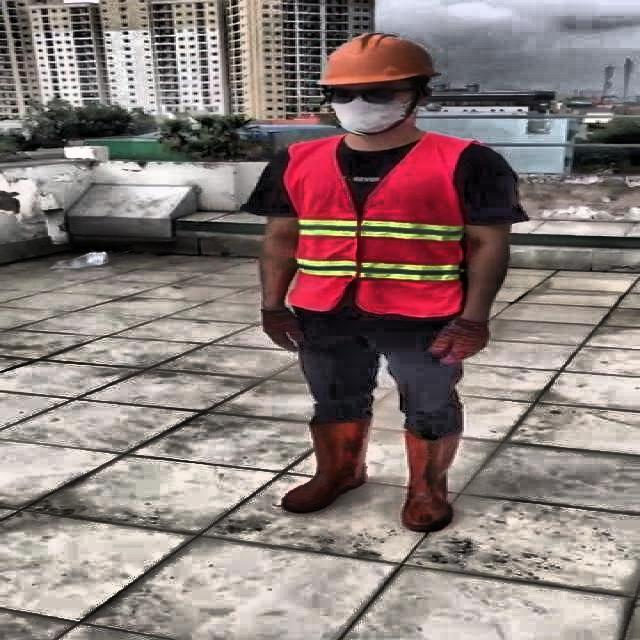safety_helmet: (311, 33, 443, 86)
safety_jacket: (286, 136, 466, 315)
